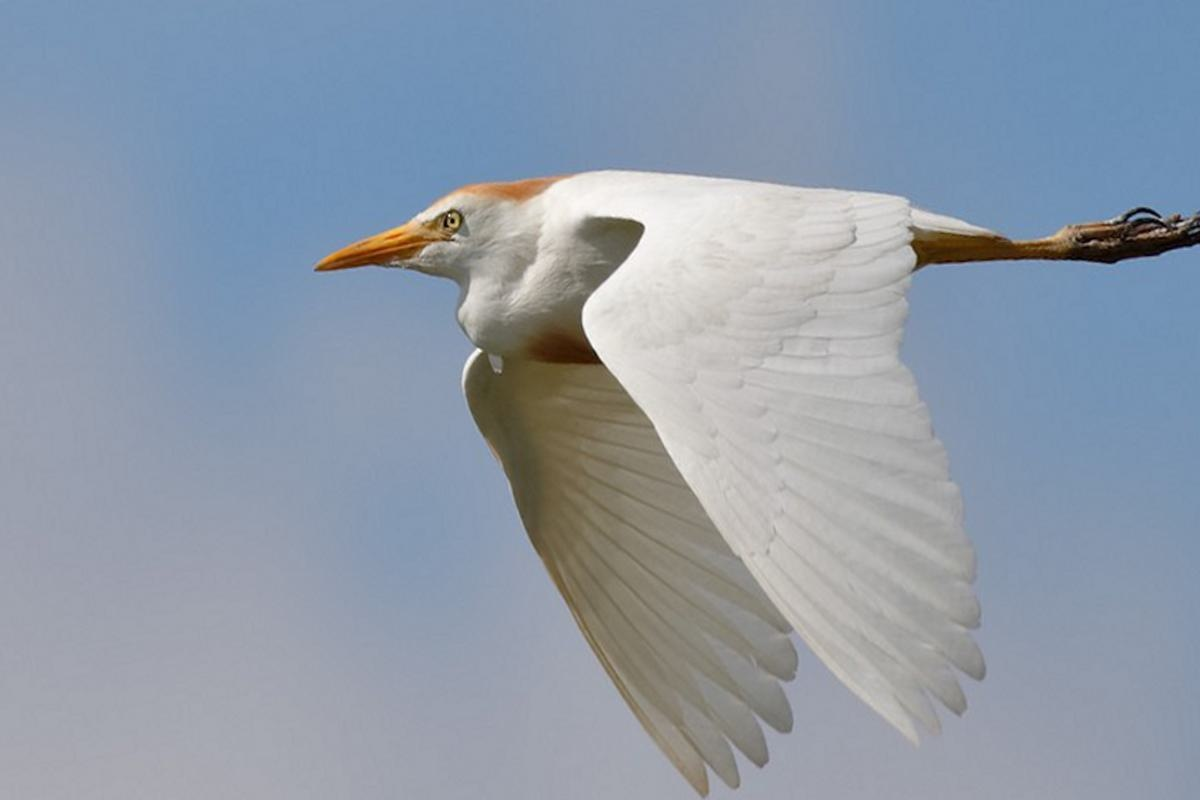egret: (324, 28, 1200, 788)
